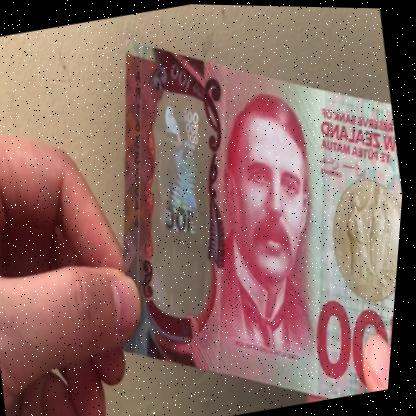100F: (126, 98, 236, 310)
